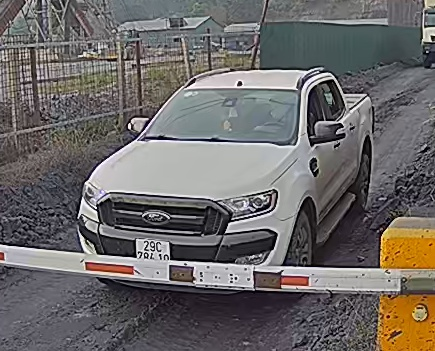vehicle plate: (133, 237, 172, 261)
